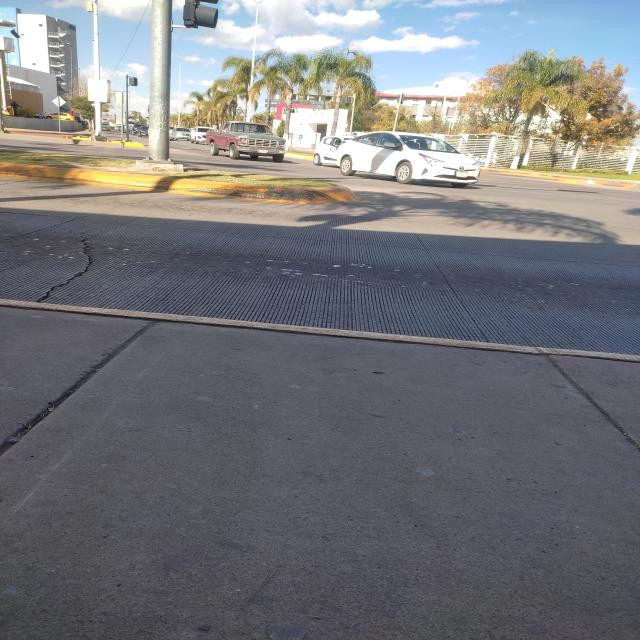Auto: (329, 131, 494, 188), (203, 114, 296, 170), (314, 126, 354, 172), (34, 108, 80, 124), (185, 126, 214, 144), (166, 126, 197, 142), (131, 122, 152, 138), (96, 122, 116, 134)
